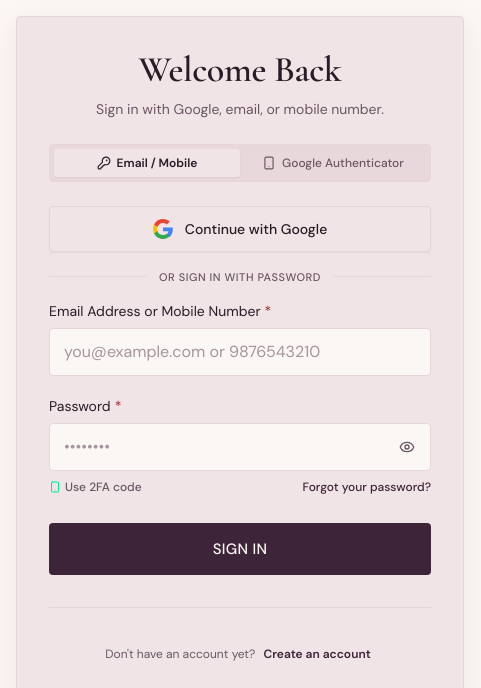
Scenario: Clean Login & Signup with Google and Google Authenticator › displays an error alert if Google Sign In fails
Click the button "Continue with Google" at (240, 230), box [49, 206, 431, 252]
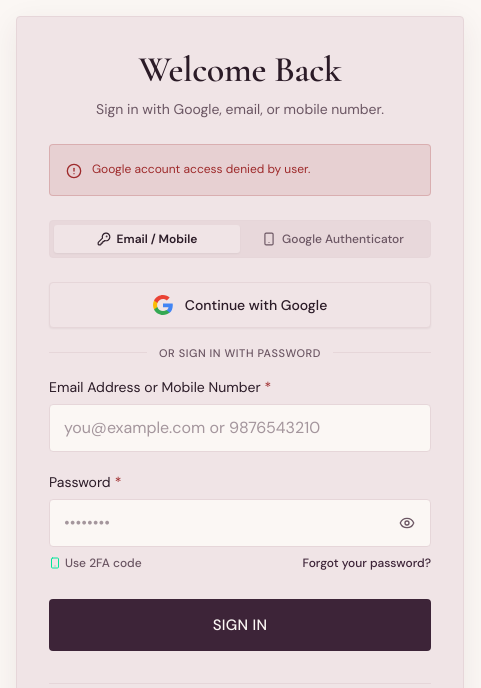
Result: the message with test id "login-general-error" shows "Google account access denied by user" at [92, 162, 310, 178]
